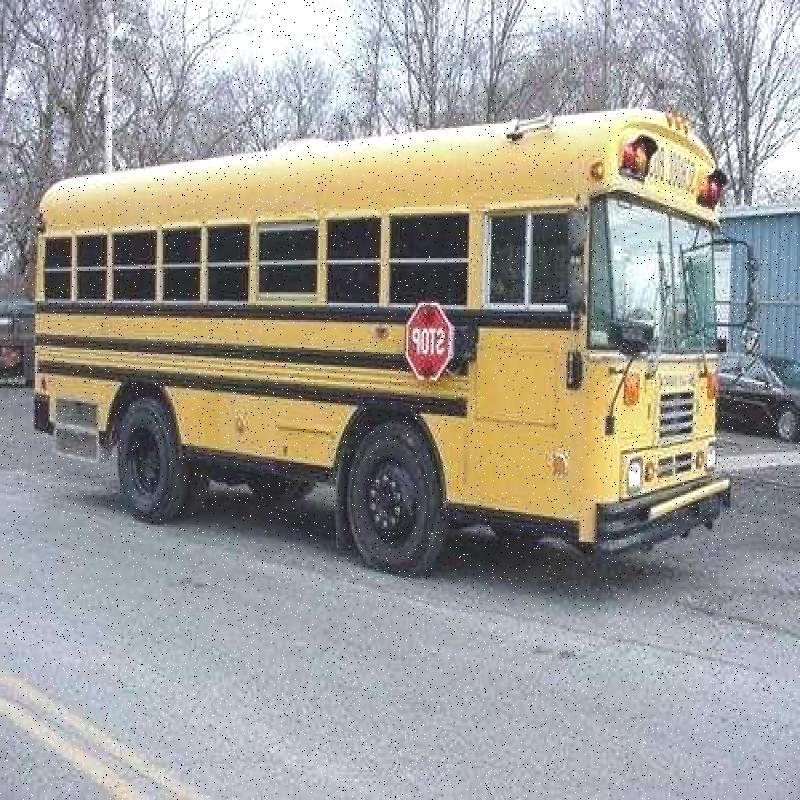bus: (27, 63, 728, 561)
